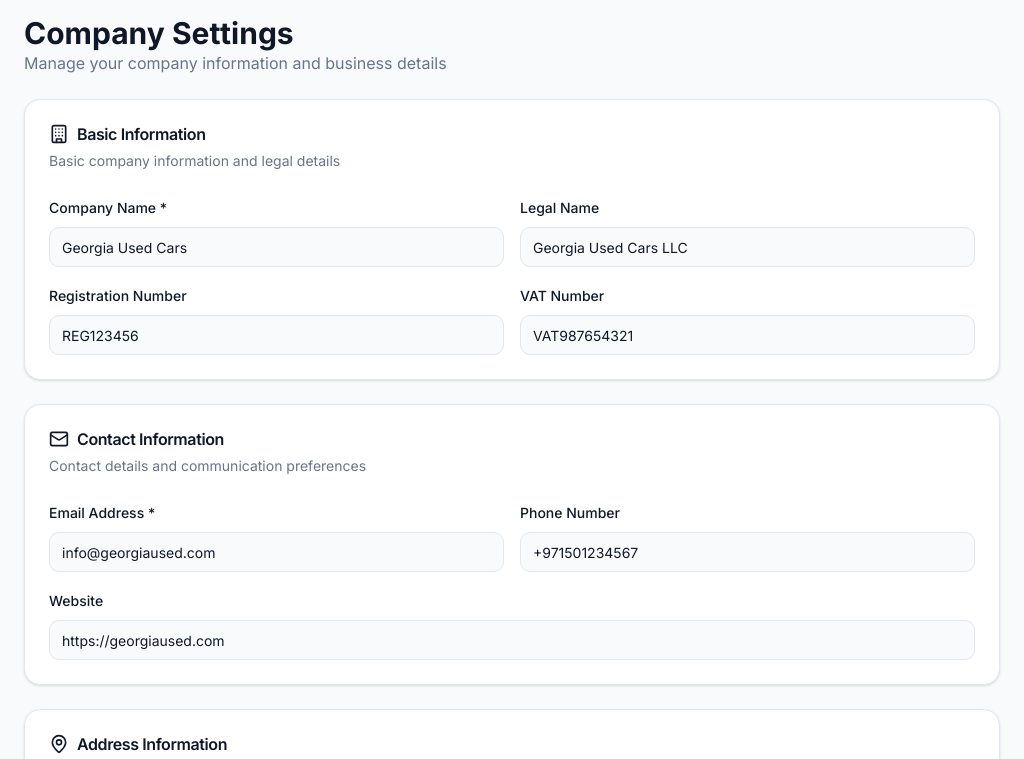
Company Settings Page › should validate website URL format
Replace the text in the field showing "https://georgiaused.com" with "invalid-url" at (512, 640), box [49,620,975,660]
(page scrolled)
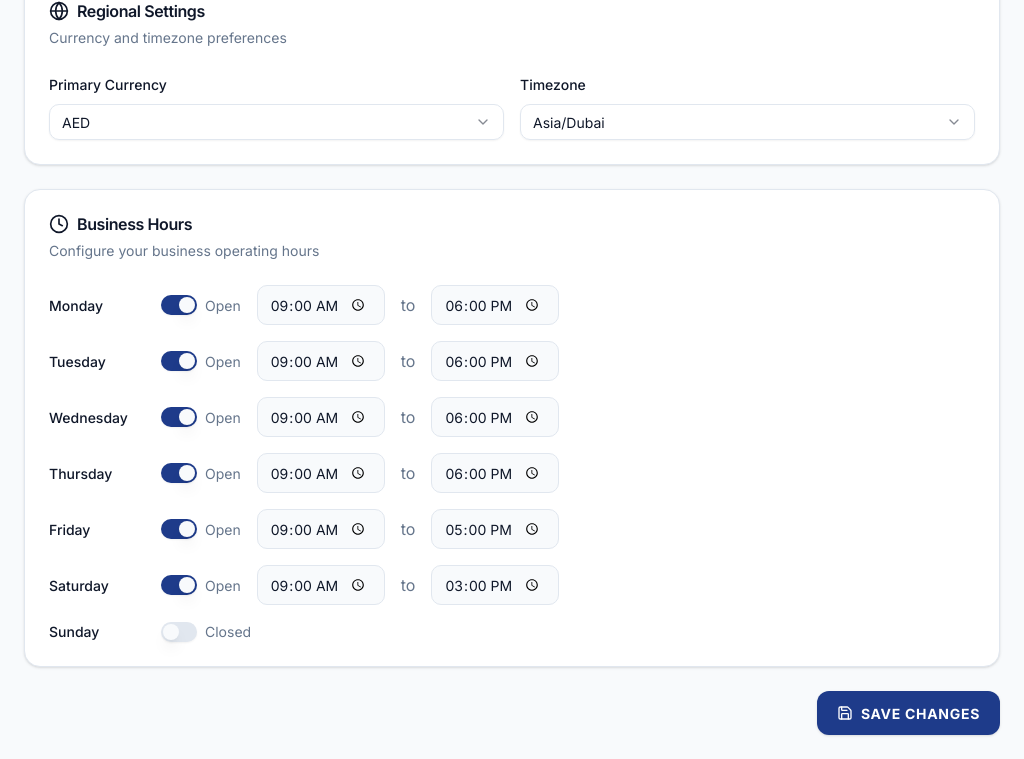
Click the button "Save Changes" at (908, 713), box [817,691,1000,735]
(page scrolled)
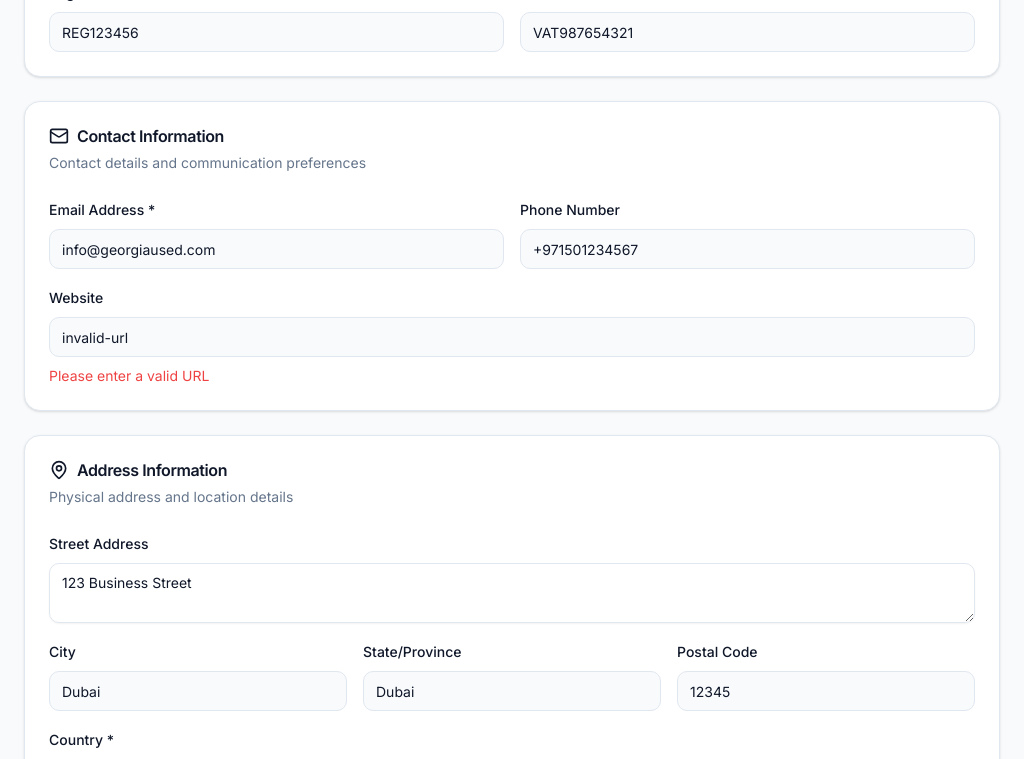
Now the text "Please enter a valid URL" is shown, box [49,367,209,384]
